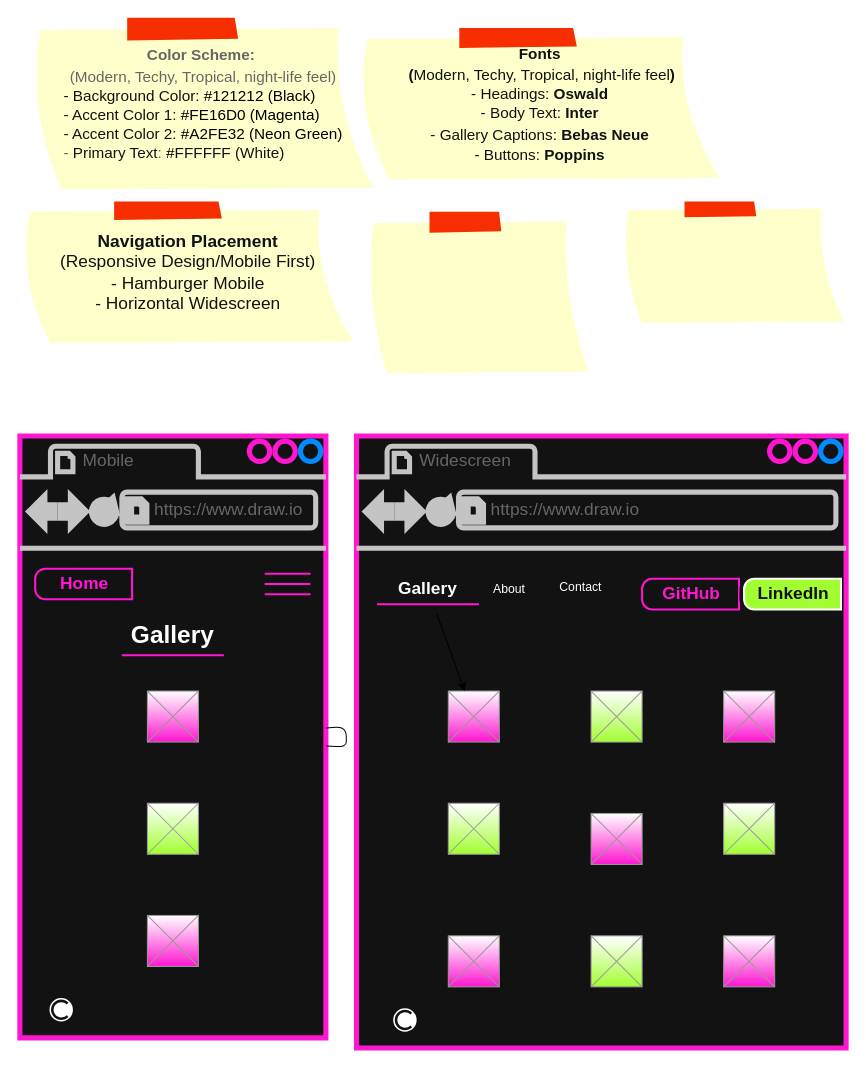
This 866x1068 diagram has some shape labels left out. Here are the shapes that lost their labels. From the top down, the box of each, then its label:
(621, 200, 846, 324): Gallery - Grid Layout - Linking to projects
(366, 211, 591, 375): Graphics - Palm Trees - Speakers -Lazers - Grids -Spectrum Analyzers
